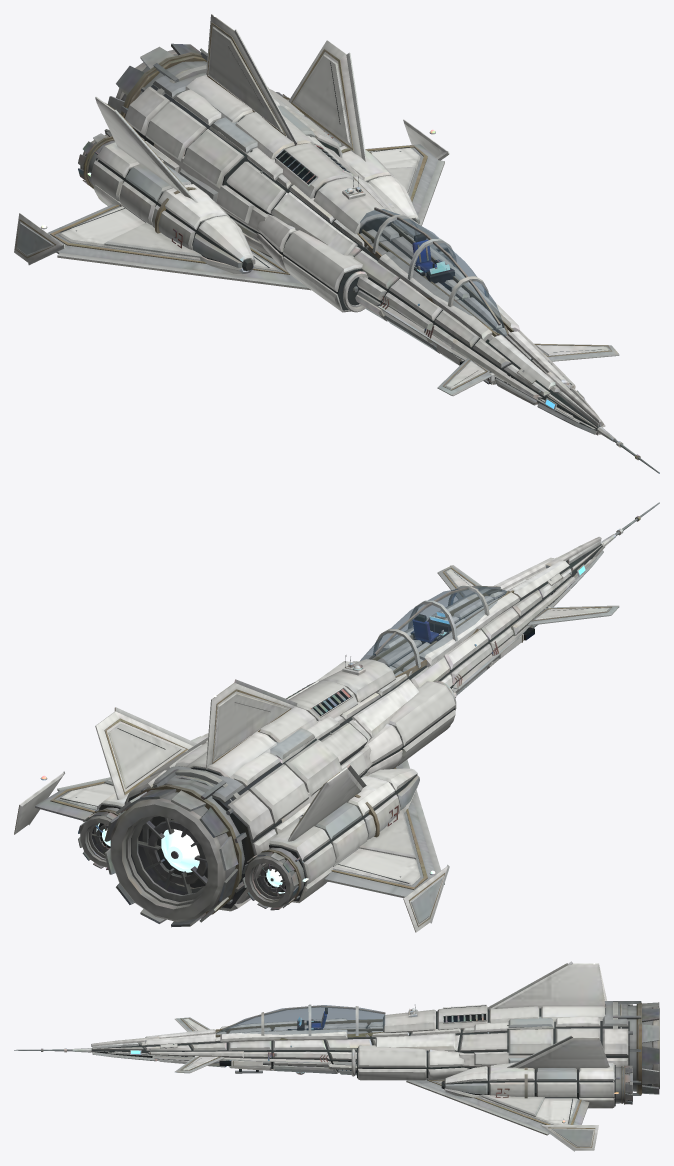
Rendered from kestrel_interceptor.glb.
The picture shows the model from 3 angles, top to bottom: view 1: azimuth 30°, elevation 25°; view 2: azimuth 150°, elevation 25°; view 3: azimuth 270°, elevation 25°; orthographic projection. The views are drawn at different scales.
Visible parts, largest first — view 1: kestrel_interceptor_hull, kestrel_interceptor_glass; view 2: kestrel_interceptor_hull, kestrel_interceptor_glass, kestrel_interceptor_plasma; view 3: kestrel_interceptor_hull, kestrel_interceptor_glass.
Boxes of the visible parts, <box> form: kestrel_interceptor_hull: <box>14,14,659,473</box>; kestrel_interceptor_glass: <box>360,209,507,336</box>; kestrel_interceptor_hull: <box>14,502,659,932</box>; kestrel_interceptor_glass: <box>360,587,506,675</box>; kestrel_interceptor_plasma: <box>96,823,284,893</box>; kestrel_interceptor_hull: <box>14,961,659,1151</box>; kestrel_interceptor_glass: <box>216,1005,384,1034</box>.
Bounding box in the file's own units: 6.47 × 3 × 13.75.
Materials: 3 (1 with a texture image).
